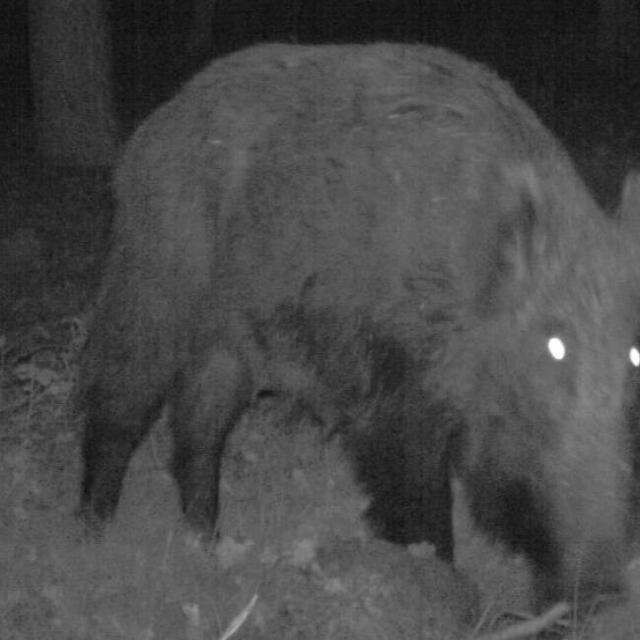pig: (64, 0, 640, 600)
